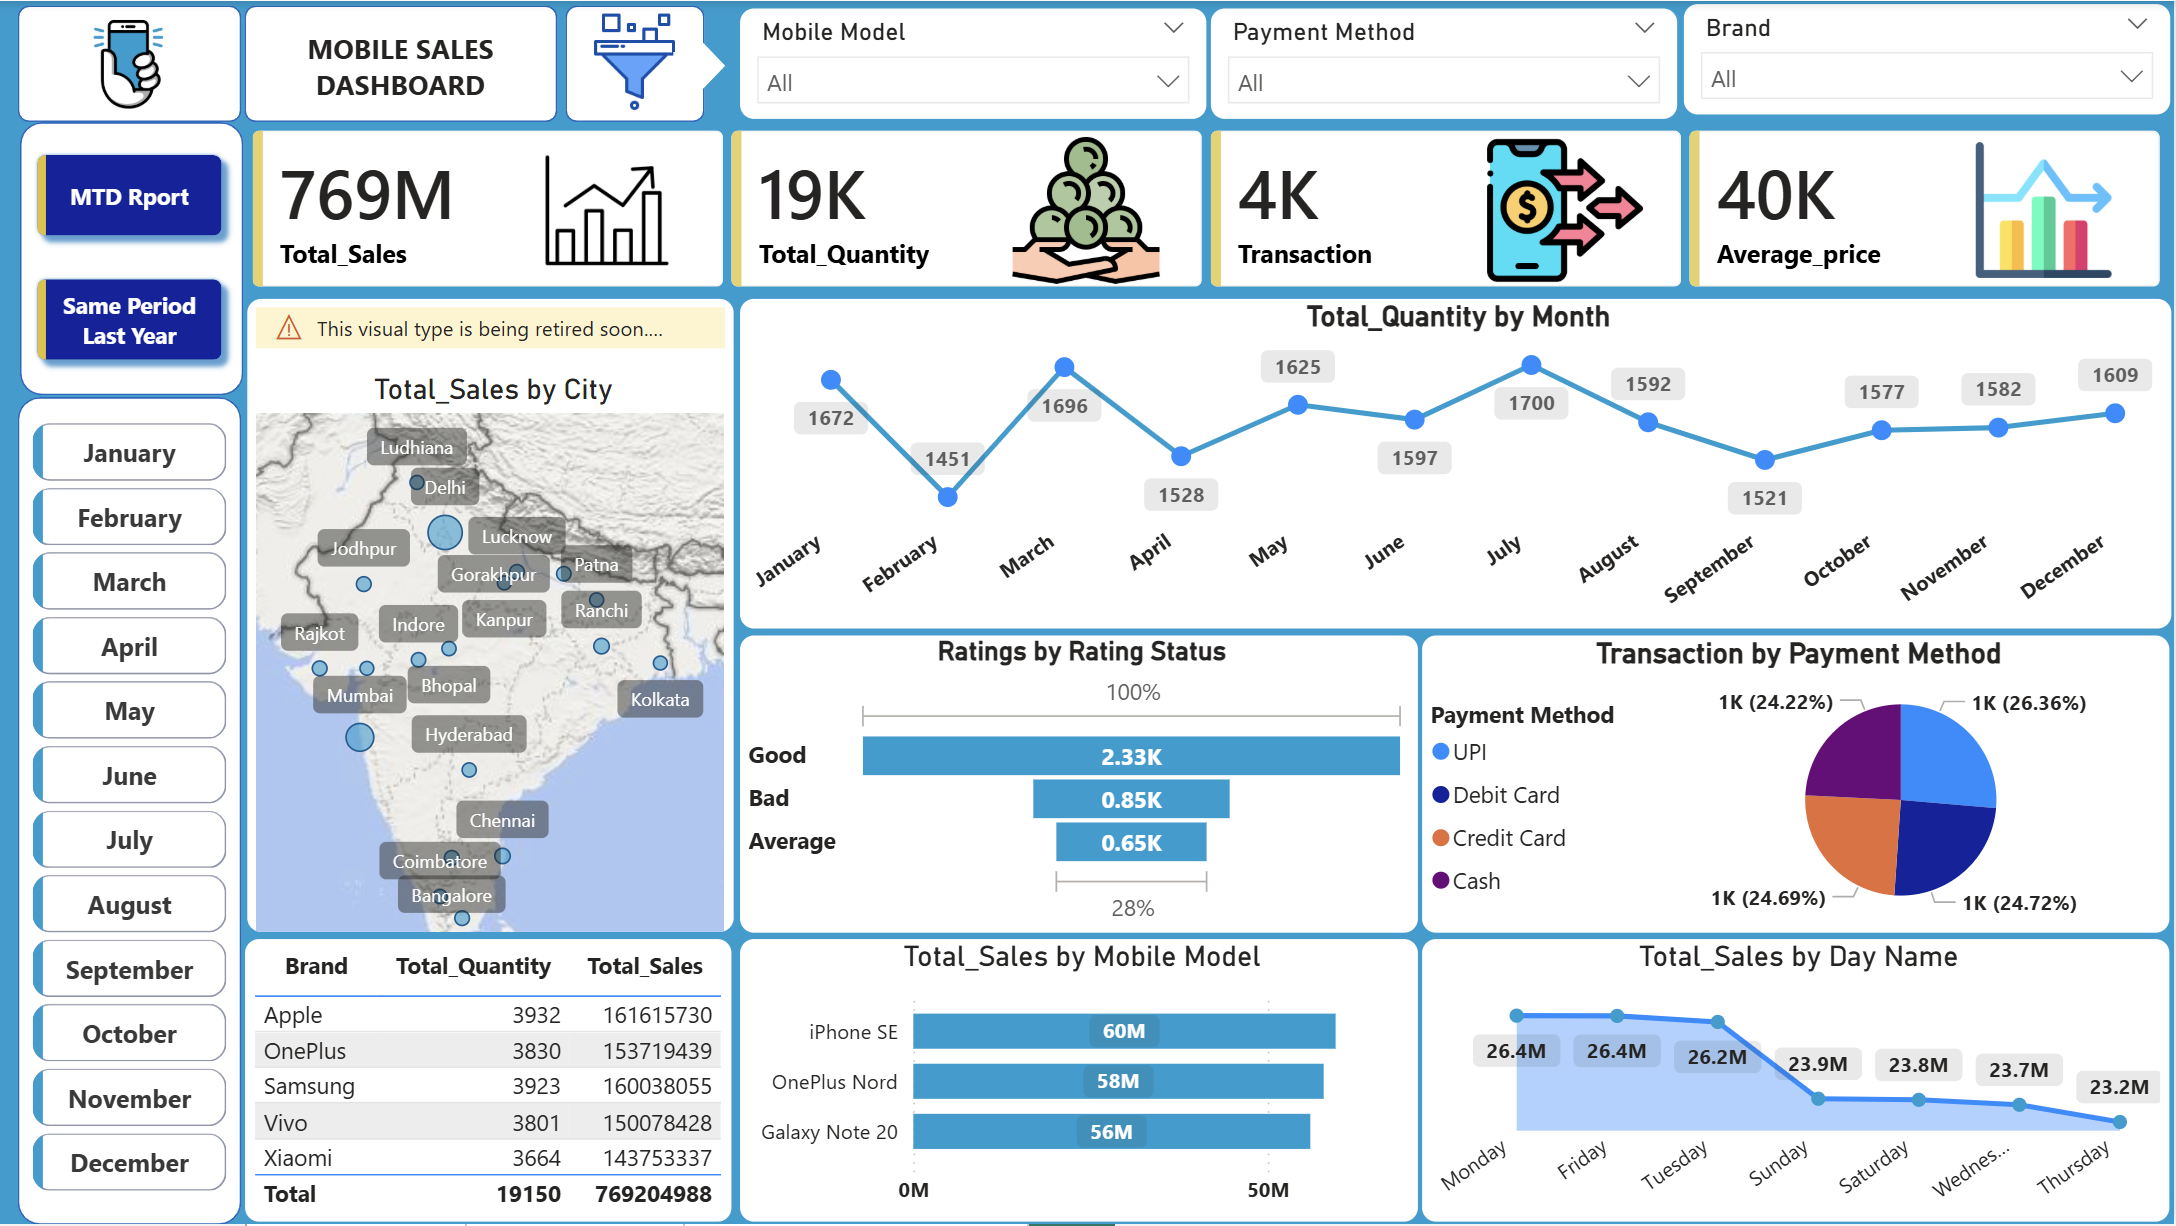

What the dashboard file says about the page in this screenshot:
{"tool":"powerbi","page":{"name":"Dashboard","canvas":[1280,720],"ordinal":0},"visuals":[{"type":"shape","box":[10.2,2.9,131.8,68.8],"z":0},{"type":"image","box":[27.8,2.9,96.6,68.8],"z":1000},{"type":"shape","box":[11.7,71.7,131.8,161],"z":2000},{"type":"shape","box":[10.2,232.8,131.8,487.5],"z":3000},{"type":"cardVisual","fields":{"Data":["Sales_data.Total_Sales","Sales_data.Total_Quantity","Sales_data.Transaction","Sales_data.Average_price"]},"box":[143.5,71.7,1136,102.5],"z":4000},{"type":"slicer","fields":{"Values":["Sales_data.Mobile Model"]},"box":[433.3,2.9,278.1,68.8],"z":5000},{"type":"slicer","fields":{"Values":["Sales_data.Payment Method"]},"box":[711.5,2.9,278.1,68.8],"z":6000},{"type":"slicer","fields":{"Values":["Sales_data.Brand"]},"box":[989.6,0,289.9,68.8],"z":7000},{"type":"shape","box":[332.3,2.9,82,68.8],"z":8000},{"type":"image","box":[341.1,5.9,65.9,58.6],"z":9000},{"type":"shape","box":[396.7,22,30.7,32.2],"z":10000},{"type":"shape","box":[143.5,2.9,184.5,68.8],"z":11000},{"type":"textbox","box":[156.6,11.7,158.1,52.7],"z":12000},{"type":"map","title":" Total_Sales by City","fields":{"Category":["Sales_data.City"],"Size":["Sales_data.Total_Sales"]},"box":[143.5,174.2,289.9,376.2],"z":13000},{"type":"lineChart","fields":{"Category":["Custom_cal.date.Variation.Date Hierarchy.Month"],"Y":["Sales_data.Total_Quantity"]},"box":[433.3,174.2,846.2,197.6],"z":14000},{"type":"funnel","title":"Ratings by Rating Status","fields":{"Y":["CountNonNull(Sales_data.Customer Ratings)"],"Category":["Sales_data.Rating_Status"]},"box":[433.3,371.8,402.6,178.6],"z":15000},{"type":"pieChart","fields":{"Y":["Sales_data.Transaction"],"Category":["Sales_data.Payment Method"]},"box":[835.9,371.8,443.6,178.6],"z":16000},{"type":"clusteredBarChart","fields":{"Y":["Sales_data.Total_Sales"],"Category":["Sales_data.Mobile Model"]},"box":[433.3,550.4,402.6,169.8],"z":17000},{"type":"areaChart","fields":{"Y":["Sales_data.Total_Sales"],"Category":["Custom_cal.Day Name"]},"box":[835.9,550.4,443.6,169.8],"z":18000},{"type":"tableEx","fields":{"Values":["Sales_data.Brand","Sales_data.Total_Quantity","Sales_data.Total_Sales"]},"box":[143,550,290,170],"z":19000},{"type":"advancedSlicerVisual","fields":{"Values":["Custom_cal.date.Variation.Date Hierarchy.Month"]},"box":[14.6,243,124.4,465.5],"z":20000},{"type":"pageNavigator","box":[14.6,83.4,124.4,137.6],"z":20001}]}

Visuals, with their boxes in screenshot pixels (x1, y1, x2, y2), scaled from the page's 1280x720 canvas onto the 2176x1226 screenshot:
shape: [left=17, top=5, right=241, bottom=122]
image: [left=47, top=5, right=211, bottom=122]
shape: [left=20, top=122, right=244, bottom=396]
shape: [left=17, top=396, right=241, bottom=1225]
cardVisual - Sales_data.Total_Sales x Sales_data.Total_Quantity: [left=244, top=122, right=2175, bottom=297]
slicer - Sales_data.Mobile Model: [left=737, top=5, right=1209, bottom=122]
slicer - Sales_data.Payment Method: [left=1210, top=5, right=1682, bottom=122]
slicer - Sales_data.Brand: [left=1682, top=0, right=2175, bottom=117]
shape: [left=565, top=5, right=704, bottom=122]
image: [left=580, top=10, right=692, bottom=110]
shape: [left=674, top=37, right=727, bottom=92]
shape: [left=244, top=5, right=558, bottom=122]
textbox: [left=266, top=20, right=535, bottom=110]
" Total_Sales by City" map: [left=244, top=297, right=737, bottom=937]
lineChart - Custom_cal.date.Variation.Date Hierarchy.Month x Sales_data.Total_Quantity: [left=737, top=297, right=2175, bottom=633]
"Ratings by Rating Status" funnel: [left=737, top=633, right=1421, bottom=937]
pieChart - Sales_data.Transaction x Sales_data.Payment Method: [left=1421, top=633, right=2175, bottom=937]
clusteredBarChart - Sales_data.Total_Sales x Sales_data.Mobile Model: [left=737, top=937, right=1421, bottom=1225]
areaChart - Sales_data.Total_Sales x Custom_cal.Day Name: [left=1421, top=937, right=2175, bottom=1225]
tableEx - Sales_data.Brand x Sales_data.Total_Quantity: [left=243, top=937, right=736, bottom=1225]
advancedSlicerVisual - Custom_cal.date.Variation.Date Hierarchy.Month: [left=25, top=414, right=236, bottom=1206]
pageNavigator: [left=25, top=142, right=236, bottom=376]
